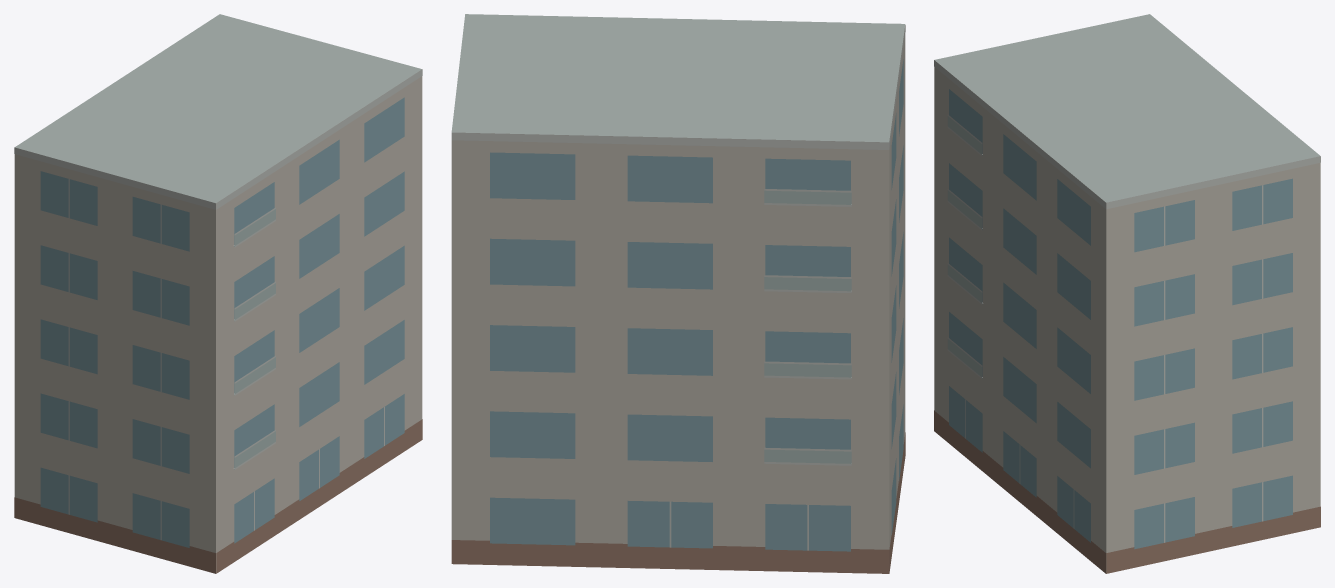
The model's file is survey-upis-32981018.glb.
The picture shows the model from 3 angles, left to right: view 1: azimuth 30°, elevation 25°; view 2: azimuth 150°, elevation 25°; view 3: azimuth 270°, elevation 25°; orthographic projection. The views are drawn at different scales.
Visible parts, largest first — view 1: survey-upis-32981018.tmp; view 2: survey-upis-32981018.tmp; view 3: survey-upis-32981018.tmp.
Boxes of the visible parts, x1,y1,x2,y2 form: survey-upis-32981018.tmp: [14, 14, 422, 573]; survey-upis-32981018.tmp: [451, 14, 905, 573]; survey-upis-32981018.tmp: [934, 14, 1320, 573].
Size of the model in its own units: 14.84 by 13.6 by 12.85.
